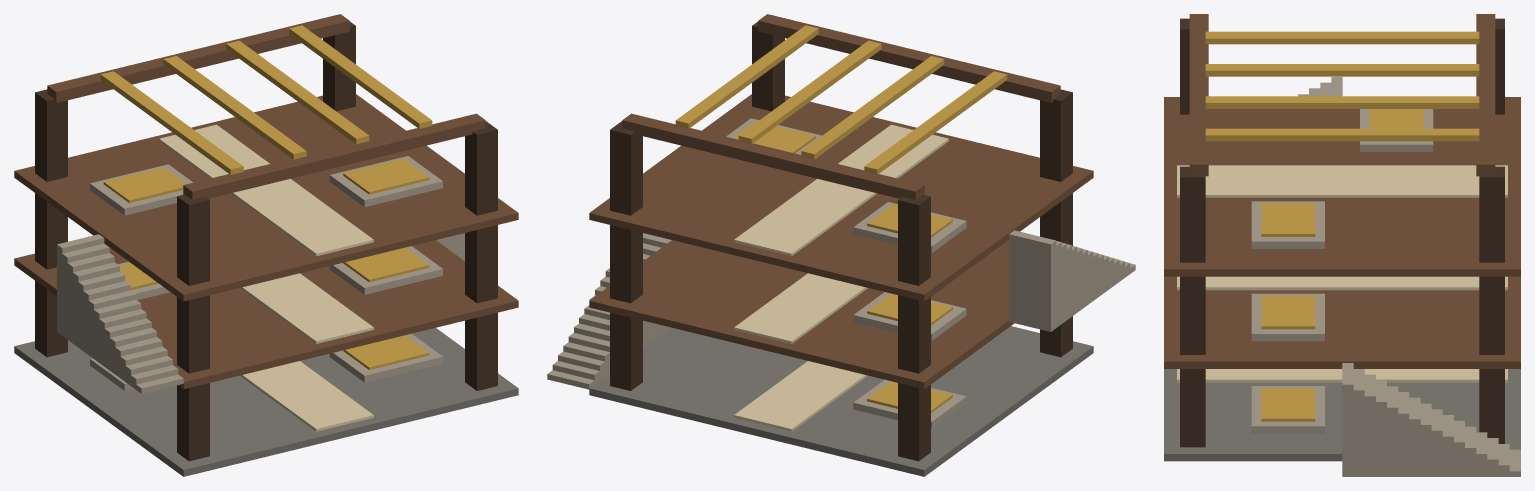
The model's file is KLC_PlotVariant_01_RusticTower.fbx.
3 views of the same model, side by side, from view 1: azimuth 30°, elevation 25°; view 2: azimuth 150°, elevation 25°; view 3: azimuth 270°, elevation 25° (orthographic). The views are drawn at different scales.
Parts seen in each view (by area): view 1: V01_Floor_3, V01_Floor_1, V01_Floor_2, V01_Aisle_3, V01_RoofBeamBack, V01_RoofBeamFront, V01_Aisle_1, V01_Aisle_2, V01_Post_3_1, V01_Post_3_3, V01_Post_3_0, V01_RoofSlat_2 (+34 smaller); view 2: V01_Floor_3, V01_Floor_1, V01_Floor_2, V01_Aisle_3, V01_RoofBeamFront, V01_RoofBeamBack, V01_Aisle_1, V01_Aisle_2, V01_Stair_F2_F3_16, V01_Post_3_0, V01_Post_3_2, V01_Post_3_1 (+18 smaller); view 3: V01_Floor_3, V01_Floor_2, V01_Floor_1, V01_Aisle_3, V01_Aisle_2, V01_RoofSlat_0, V01_RoofSlat_3, V01_RoofSlat_1, V01_RoofSlat_2, V01_Aisle_1, V01_RoofBeamFront, V01_RoofBeamBack (+31 smaller).
Boxes of the visible parts, x1=… form: V01_Floor_3: x1=14, y1=94, x2=518, y2=301; V01_Floor_1: x1=14, y1=328, x2=518, y2=476; V01_Floor_2: x1=14, y1=240, x2=518, y2=389; V01_Aisle_3: x1=159, y1=124, x2=373, y2=256; V01_RoofBeamBack: x1=183, y1=113, x2=485, y2=199; V01_RoofBeamFront: x1=47, y1=14, x2=349, y2=102; V01_Aisle_1: x1=240, y1=361, x2=373, y2=431; V01_Aisle_2: x1=240, y1=273, x2=373, y2=343; V01_Post_3_1: x1=177, y1=194, x2=209, y2=285; V01_Post_3_3: x1=465, y1=121, x2=497, y2=215; V01_Post_3_0: x1=35, y1=89, x2=67, y2=181; V01_RoofSlat_2: x1=226, y1=40, x2=369, y2=144; V01_Floor_3: x1=589, y1=94, x2=1093, y2=301; V01_Floor_1: x1=589, y1=326, x2=1093, y2=476; V01_Floor_2: x1=589, y1=240, x2=1014, y2=389; V01_Aisle_3: x1=734, y1=124, x2=948, y2=256; V01_RoofBeamFront: x1=622, y1=113, x2=924, y2=199; V01_RoofBeamBack: x1=758, y1=14, x2=1060, y2=102; V01_Aisle_1: x1=734, y1=361, x2=867, y2=431; V01_Aisle_2: x1=734, y1=273, x2=867, y2=343; V01_Stair_F2_F3_16: x1=1009, y1=230, x2=1056, y2=331; V01_Post_3_0: x1=898, y1=194, x2=930, y2=285; V01_Post_3_2: x1=610, y1=121, x2=642, y2=215; V01_Post_3_1: x1=1040, y1=89, x2=1072, y2=181; V01_Floor_3: x1=1164, y1=97, x2=1520, y2=276; V01_Floor_2: x1=1164, y1=276, x2=1520, y2=368; V01_Floor_1: x1=1164, y1=369, x2=1520, y2=461; V01_Aisle_3: x1=1177, y1=165, x2=1507, y2=197; V01_Aisle_2: x1=1177, y1=276, x2=1507, y2=290; V01_RoofSlat_0: x1=1205, y1=31, x2=1479, y2=44; V01_RoofSlat_3: x1=1205, y1=128, x2=1479, y2=141; V01_RoofSlat_1: x1=1205, y1=64, x2=1479, y2=76; V01_RoofSlat_2: x1=1205, y1=96, x2=1479, y2=108; V01_Aisle_1: x1=1177, y1=369, x2=1507, y2=382; V01_RoofBeamFront: x1=1476, y1=14, x2=1495, y2=176; V01_RoofBeamBack: x1=1189, y1=14, x2=1208, y2=176.
Size of the model in its own units: 2000 by 1262 by 1400.
Materials: 6 (6 with a texture image).
